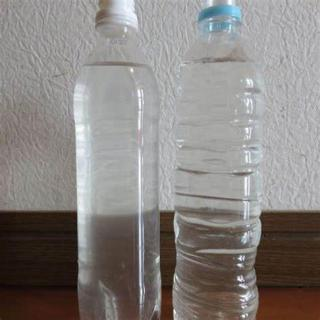Anorganik: (68, 0, 166, 320), (176, 4, 266, 320)
